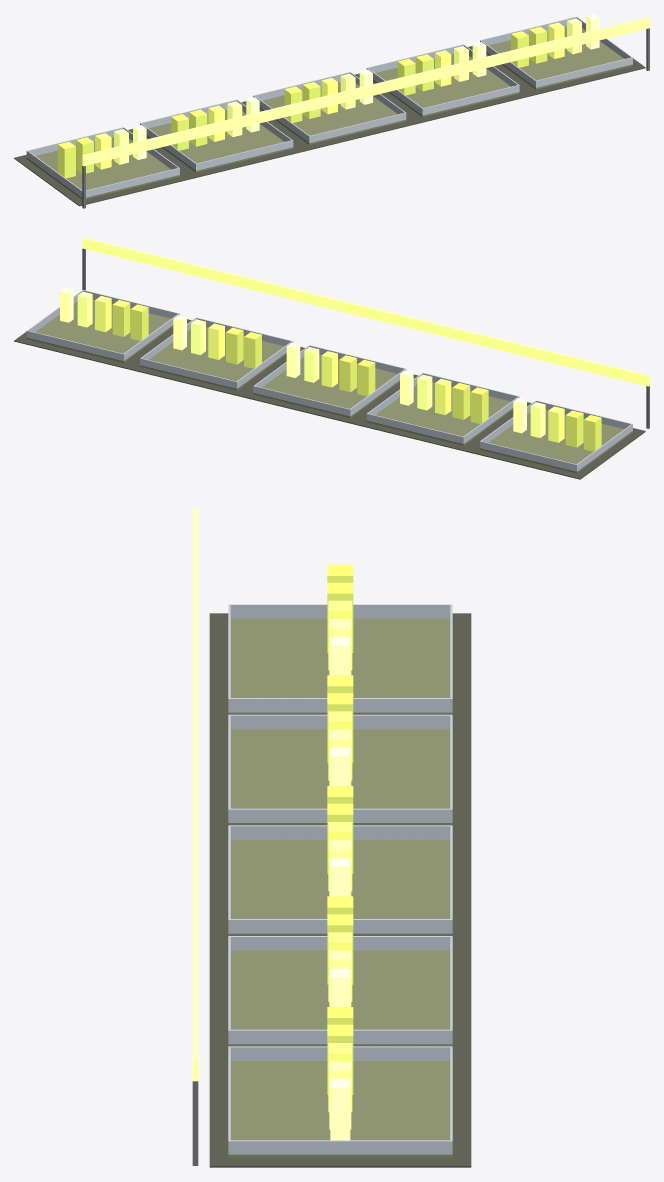
The model's file is pack-reentry-recovery-pathways.glb.
3 renders of one model, top to bottom at view 1: azimuth 30°, elevation 25°; view 2: azimuth 150°, elevation 25°; view 3: azimuth 270°, elevation 25°, orthographic. The views are drawn at different scales.
Parts seen in each view (by area): view 1: Reentry & Recovery Pathways; view 2: Reentry & Recovery Pathways; view 3: Reentry & Recovery Pathways.
Part boxes in pixels (x1=…): Reentry & Recovery Pathways: x1=14, y1=14, x2=649, y2=208; Reentry & Recovery Pathways: x1=14, y1=237, x2=649, y2=479; Reentry & Recovery Pathways: x1=192, y1=508, x2=471, y2=1167.
Bounding box in the file's own units: 70 × 6.3 × 14.9.
